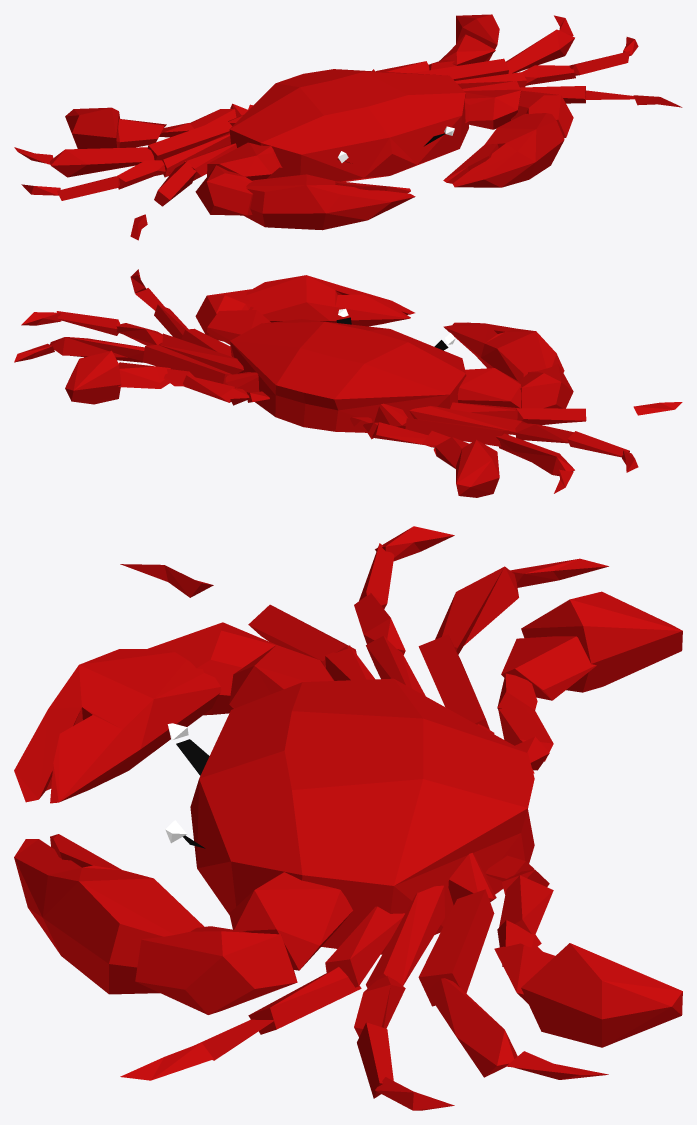
The model's file is Crab.glb.
3 renders of one model, top to bottom at view 1: azimuth 30°, elevation 25°; view 2: azimuth 150°, elevation 25°; view 3: azimuth 270°, elevation 25°, orthographic. The views are drawn at different scales.
Visible parts, largest first — view 1: Crab; view 2: Crab; view 3: Crab.
Part boxes in pixels (box(x1,y1,x2,y2)): Crab: box(14, 14, 682, 240); Crab: box(14, 269, 682, 497); Crab: box(14, 526, 682, 1110).
Size of the model in its own units: 0.6796 by 0.0654 by 0.3358.
1 material, 1 textured.
